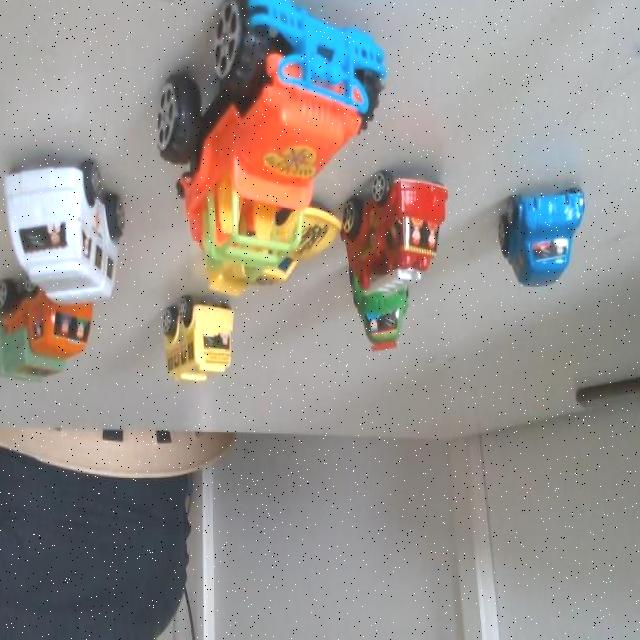car: (238, 0, 399, 187), (492, 156, 602, 302), (226, 185, 345, 300), (12, 171, 122, 291), (6, 270, 106, 390), (367, 160, 455, 292), (180, 299, 244, 391), (359, 264, 421, 346)
